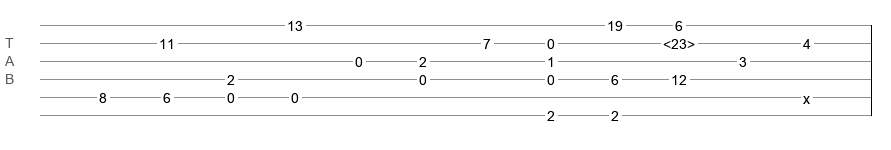0: (227, 90, 235, 100), (291, 90, 299, 100), (355, 54, 363, 64), (419, 72, 427, 82), (547, 72, 555, 82), (547, 36, 555, 46)
1: (547, 54, 555, 64)
11: (159, 36, 175, 46)
12: (671, 72, 687, 82)
13: (287, 18, 303, 28)
19: (607, 18, 623, 28)
2: (227, 72, 235, 82), (419, 54, 427, 64), (547, 108, 555, 118), (611, 108, 619, 118)
3: (739, 54, 747, 64)
4: (803, 36, 811, 46)
6: (163, 90, 171, 100), (611, 72, 619, 82), (675, 18, 683, 28)
7: (483, 36, 491, 46)
8: (99, 90, 107, 100)
harmonic: (663, 36, 695, 46)
x: (803, 91, 810, 99)
